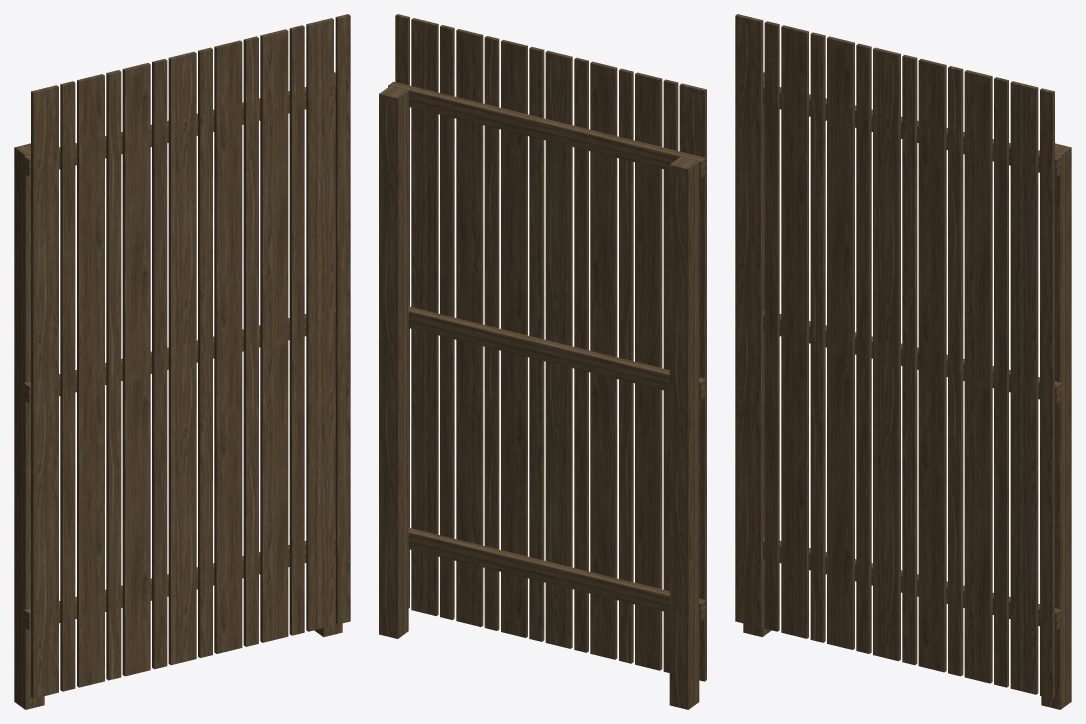
File: tatehari80-40_h1800_brownebony.fbx
3 views of the same model, side by side, from view 1: azimuth 30°, elevation 25°; view 2: azimuth 150°, elevation 25°; view 3: azimuth 330°, elevation 25° (orthographic). The views are drawn at different scales.
Parts seen in each view (by area): view 1: tatehari80-40_h1800_brownebony; view 2: tatehari80-40_h1800_brownebony; view 3: tatehari80-40_h1800_brownebony.
Part boxes in pixels (<box>): tatehari80-40_h1800_brownebony: <box>14,14,350,709</box>; tatehari80-40_h1800_brownebony: <box>379,14,706,709</box>; tatehari80-40_h1800_brownebony: <box>735,14,1071,709</box>.
Bounding box in the file's own units: 100 × 185 × 10.2.
1 material, 1 textured.
